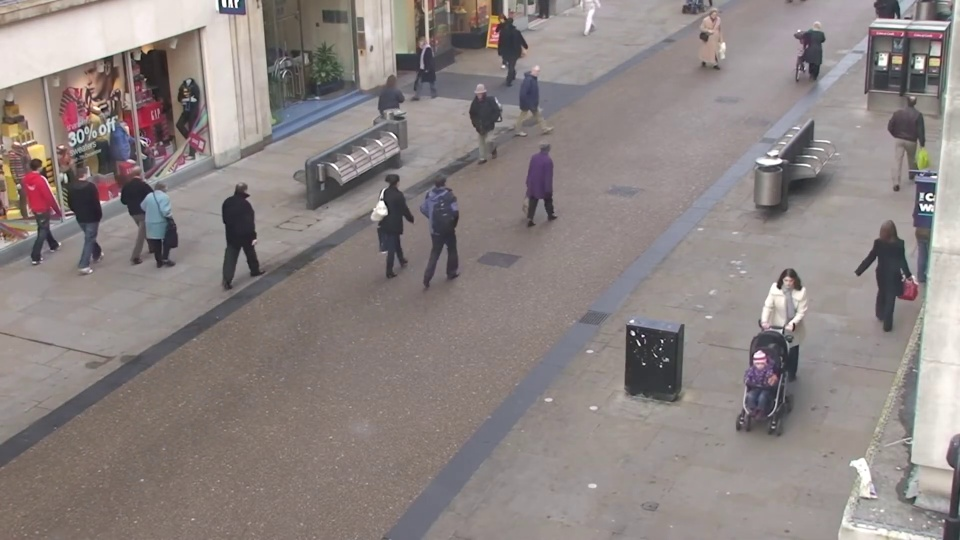pedestrian: (726, 346, 782, 502), (756, 270, 805, 407), (857, 211, 908, 334), (23, 149, 74, 252), (69, 158, 117, 262), (150, 171, 195, 279), (124, 156, 168, 260), (232, 169, 274, 277), (384, 165, 422, 275), (427, 161, 464, 270), (890, 87, 933, 180), (536, 131, 569, 231), (463, 85, 493, 173), (384, 69, 414, 151), (532, 62, 560, 143), (799, 17, 829, 89), (406, 33, 432, 106), (703, 6, 728, 73), (501, 14, 525, 81), (487, 13, 511, 80)
